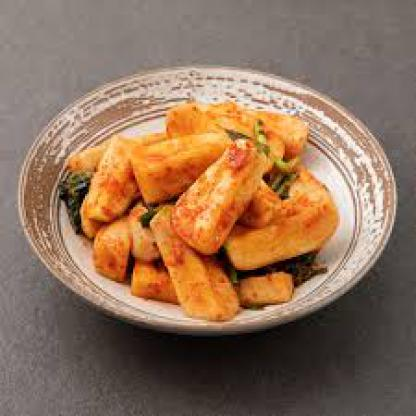chonggak Kimchi: (65, 94, 333, 314)
